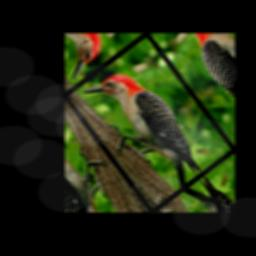Woodpecker: (74, 55, 213, 207)
